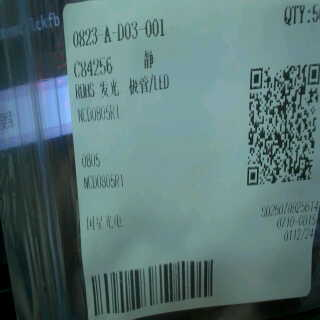LED: (95, 70, 169, 105)
